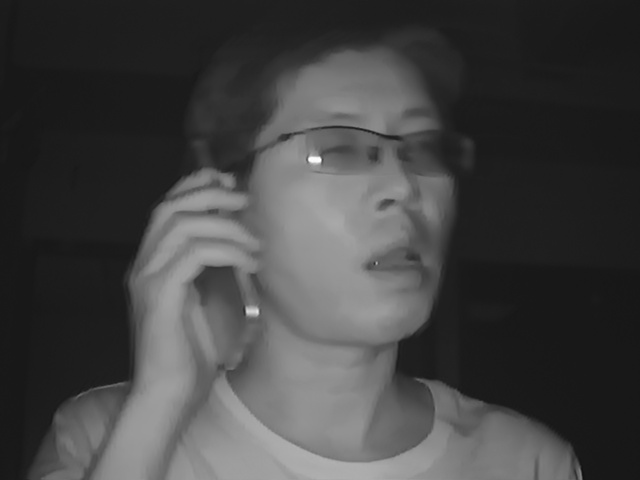hand: (126, 166, 258, 379)
